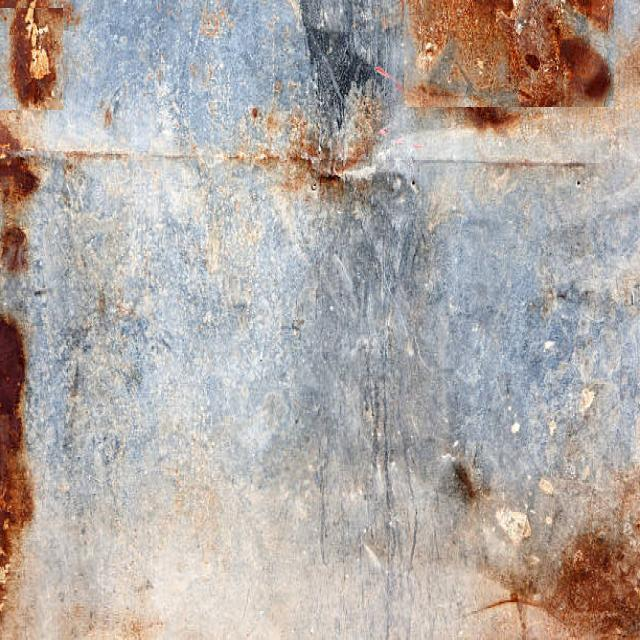Corrosion: (0, 0, 639, 639), (452, 454, 639, 639), (400, 0, 615, 109), (0, 309, 35, 639), (1, 0, 77, 109)
